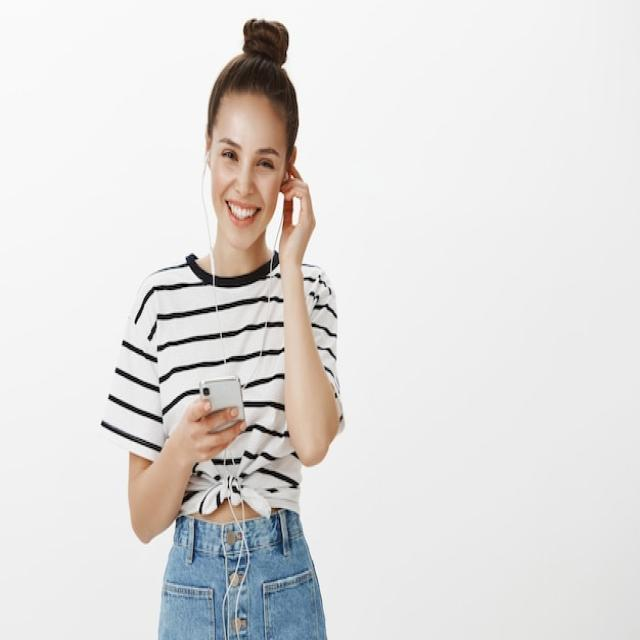Earphone: (200, 145, 286, 640)
